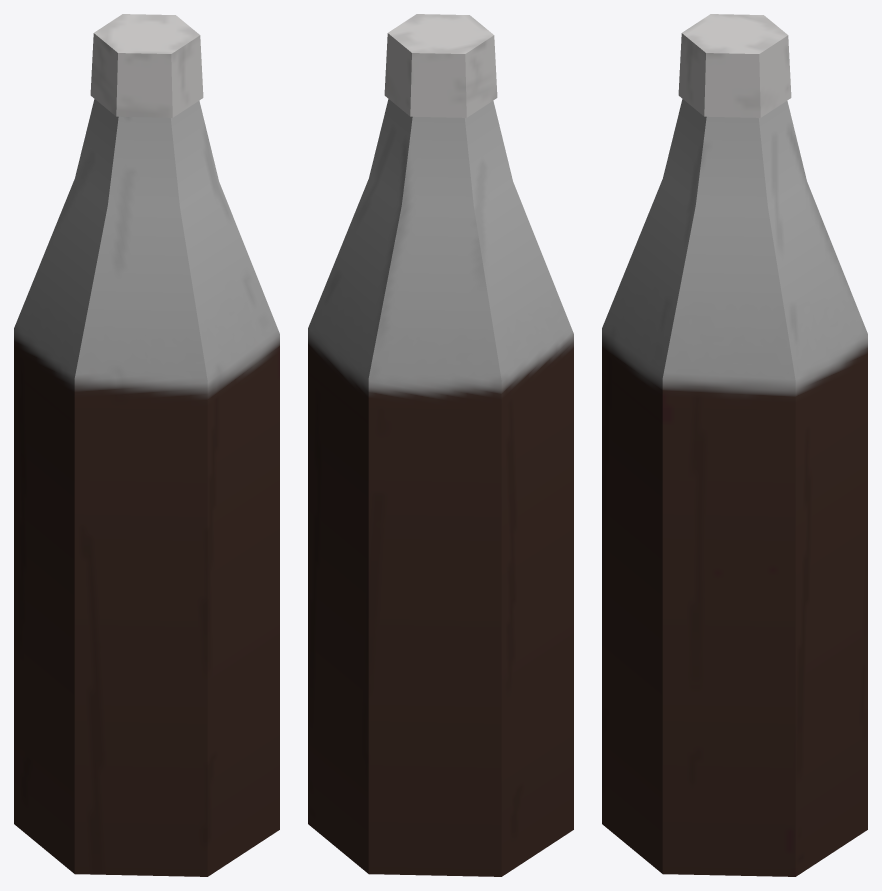
File: Chocolate_shake.fbx
3 renders of one model, left to right at view 1: azimuth 30°, elevation 25°; view 2: azimuth 150°, elevation 25°; view 3: azimuth 270°, elevation 25°, orthographic.
Visible parts, largest first — view 1: Chocolate_shake; view 2: Chocolate_shake; view 3: Chocolate_shake.
Part boxes in pixels (x1,y1,x2,y2): Chocolate_shake: [14, 14, 279, 876]; Chocolate_shake: [308, 14, 573, 876]; Chocolate_shake: [602, 14, 867, 876].
Bounding box in the file's own units: 10.32 × 38.09 × 11.58.
Materials: 1 (1 with a texture image).
